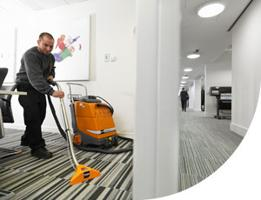person: (15, 32, 66, 158)
